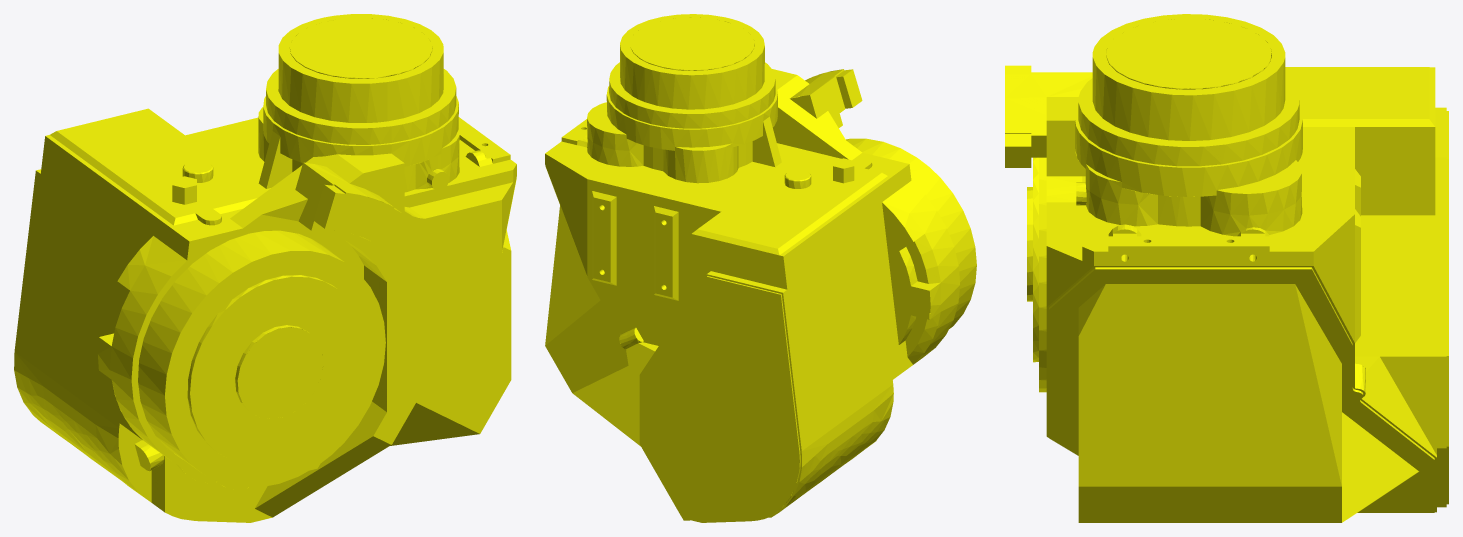
The picture shows the model from 3 angles, left to right: view 1: azimuth 30°, elevation 25°; view 2: azimuth 150°, elevation 25°; view 3: azimuth 270°, elevation 25°; orthographic projection. The views are drawn at different scales.
Parts seen in each view (by area): view 1: node; view 2: node; view 3: node.
Boxes of the visible parts, left/top/right/bottom form: node: left=14, top=14, right=516, bottom=522; node: left=545, top=14, right=976, bottom=522; node: left=1005, top=14, right=1448, bottom=522.
Bounding box in the file's own units: 433 × 477 × 374.
